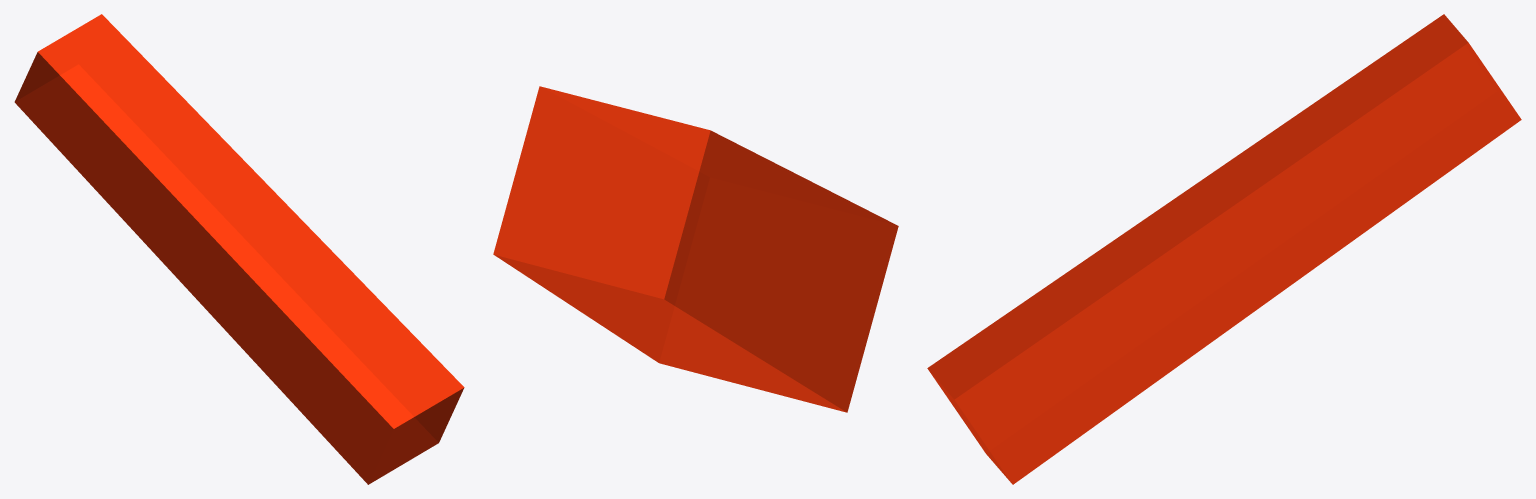
File: Event_420094457_EBrechit_21.fbx
3 views of the same model, side by side, from view 1: azimuth 30°, elevation 25°; view 2: azimuth 150°, elevation 25°; view 3: azimuth 270°, elevation 25° (orthographic). The views are drawn at different scales.
Parts seen in each view (by area): view 1: Model; view 2: Model; view 3: Model.
Boxes of the visible parts, left/top/right/bottom form: Model: left=14, top=14, right=464, bottom=484; Model: left=493, top=86, right=898, bottom=412; Model: left=927, top=14, right=1521, bottom=484.
Bounding box in the file's own units: 0.1561 × 0.231 × 0.3277.
